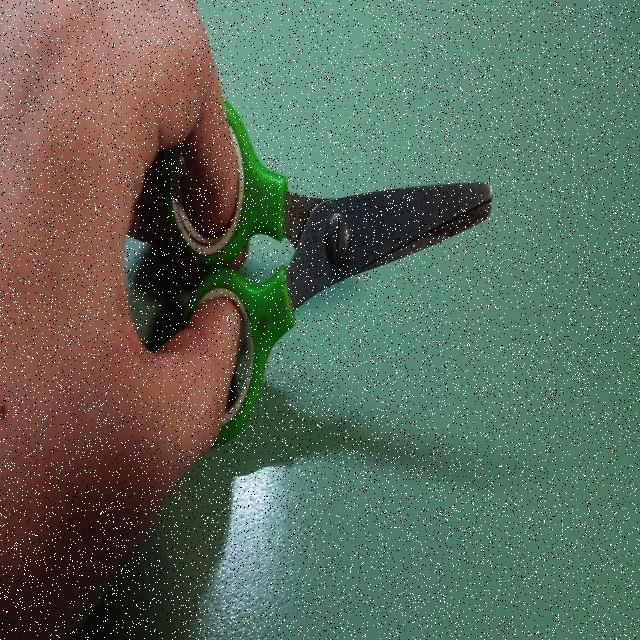scissors: (148, 58, 498, 462)
